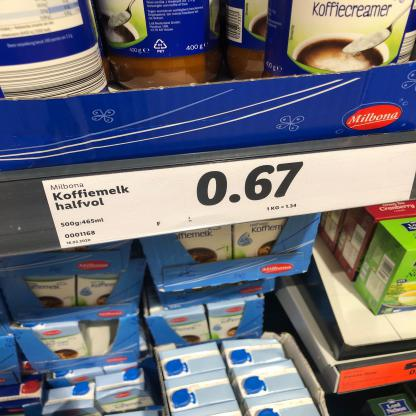prtg: (42, 143, 416, 250)
